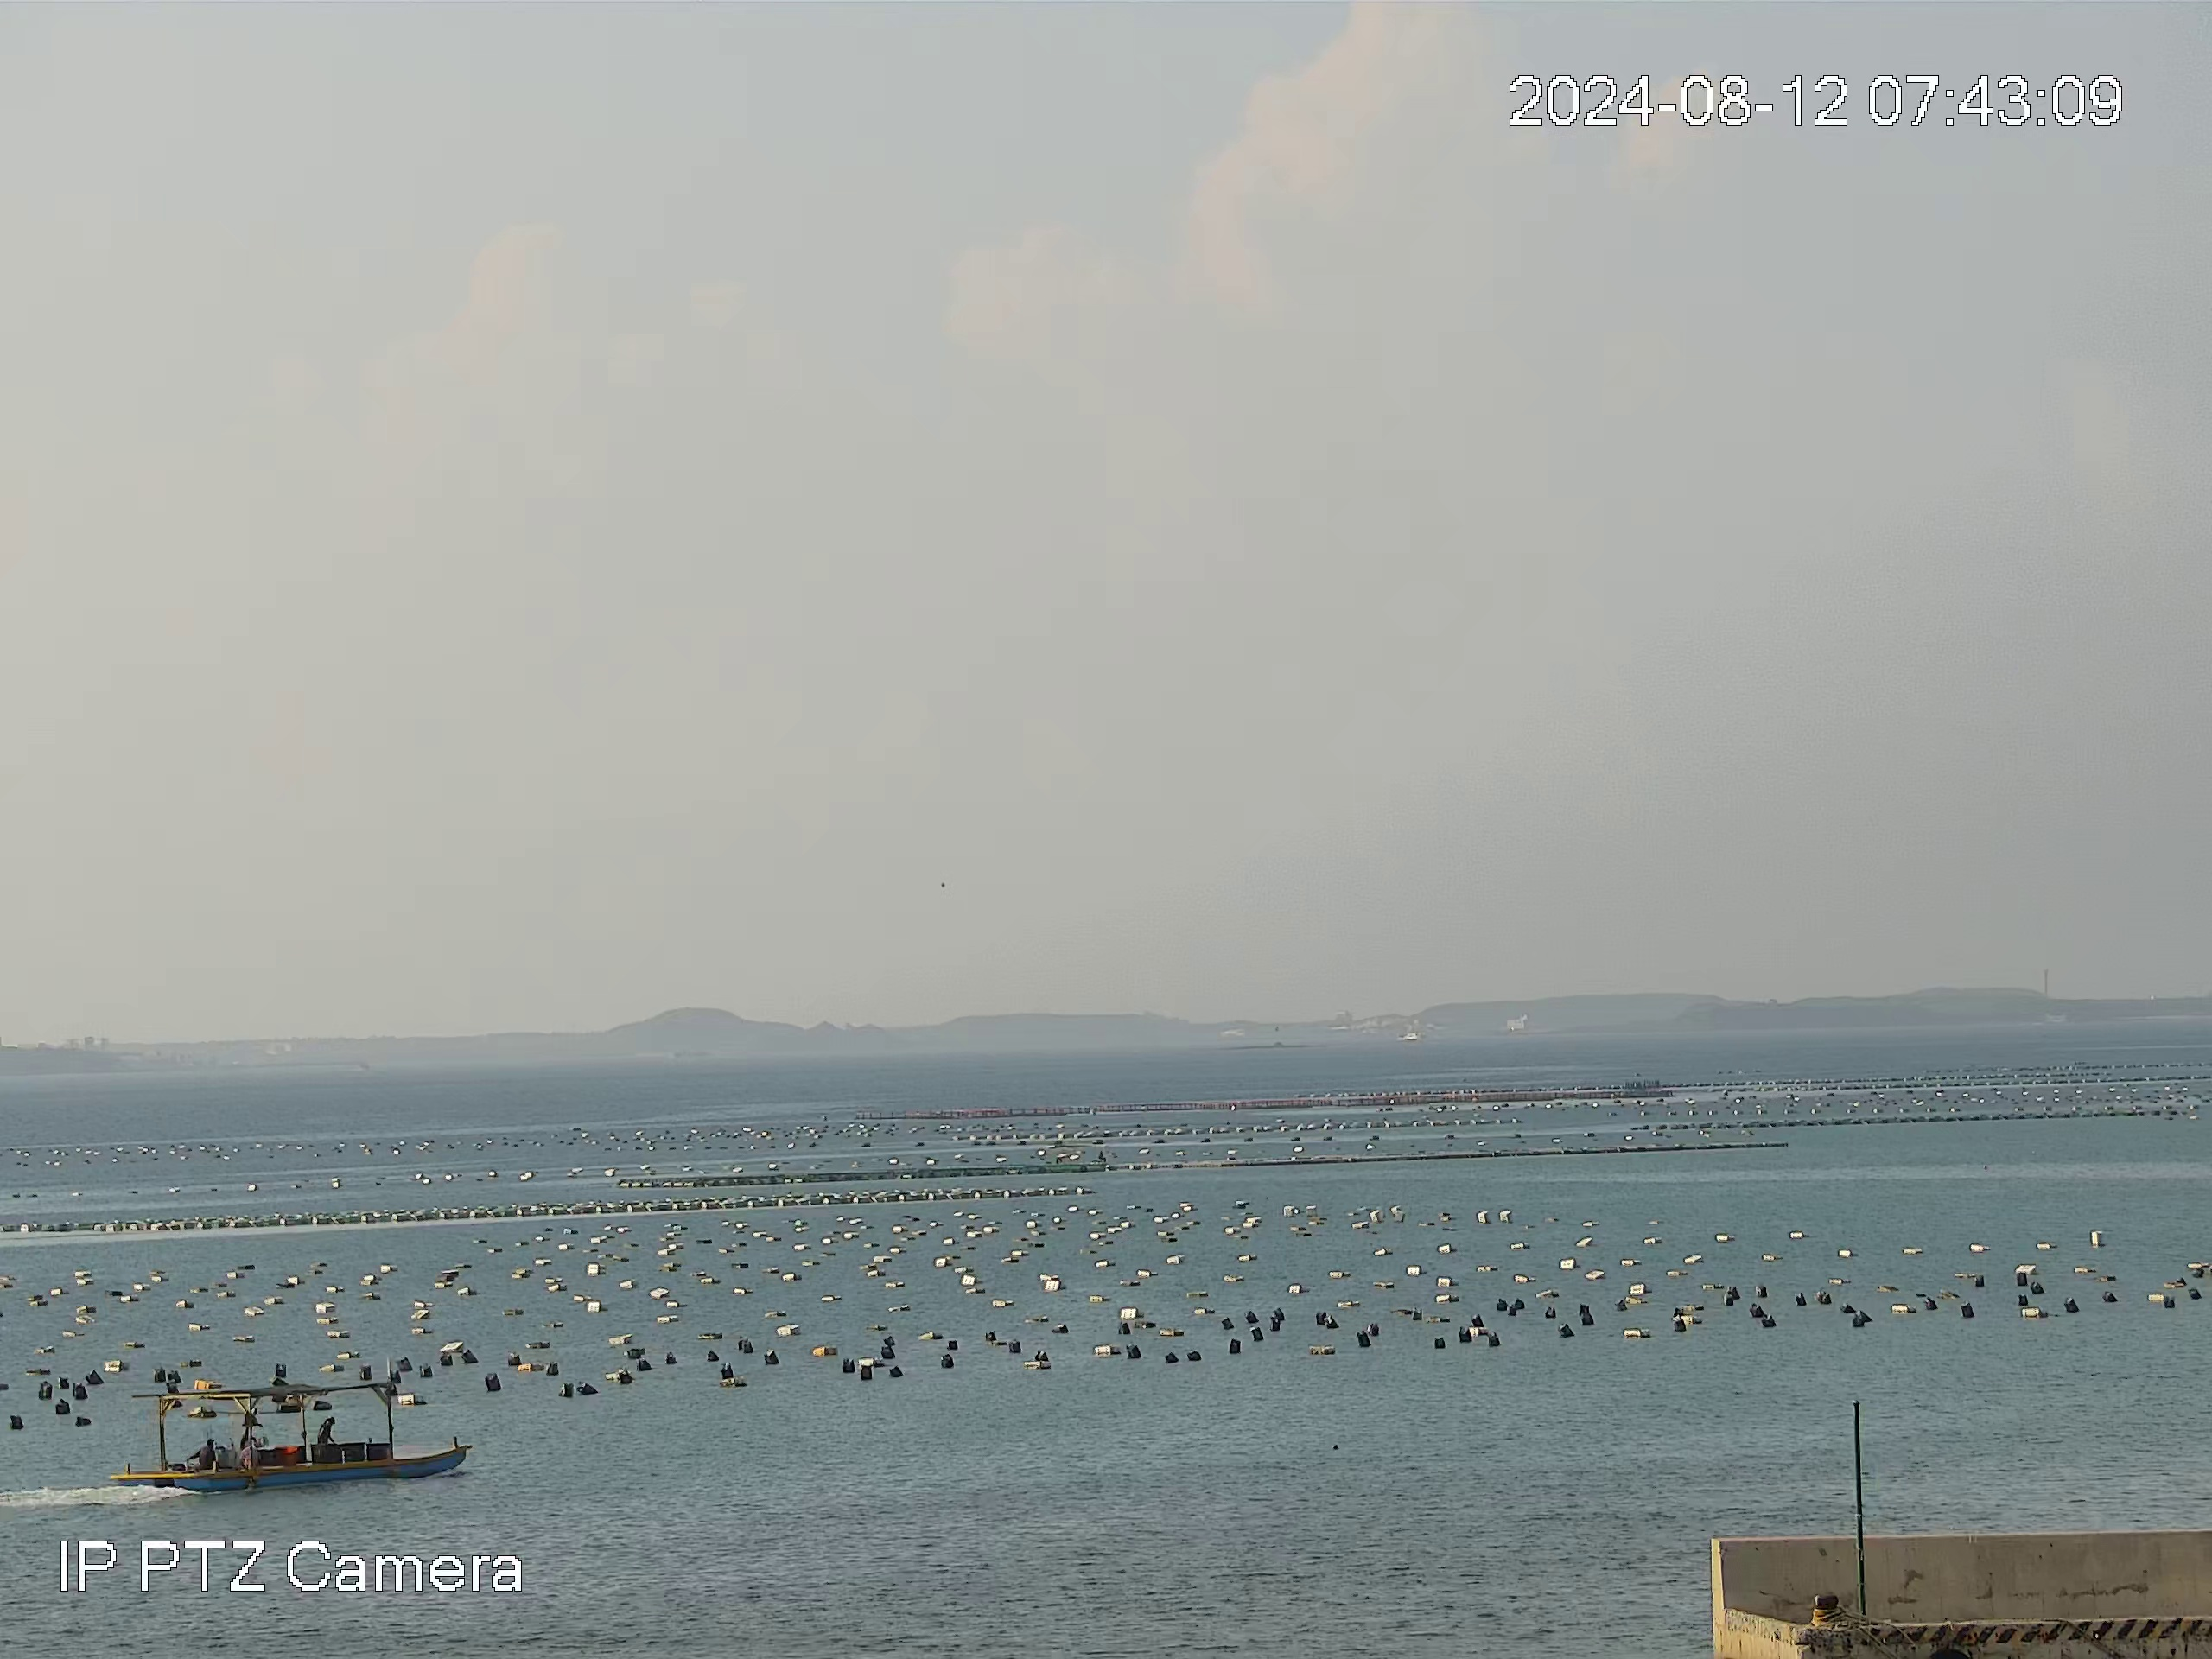boat: (101, 1382, 475, 1492)
